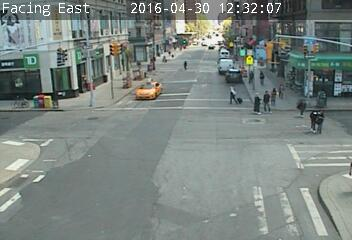neg: (138, 137, 172, 183), (281, 14, 311, 54), (247, 180, 273, 214), (27, 53, 52, 86), (69, 156, 94, 189), (255, 143, 279, 175), (197, 146, 218, 174), (19, 5, 39, 32), (317, 64, 337, 91), (60, 8, 78, 32), (72, 85, 90, 109), (208, 91, 225, 113), (215, 41, 227, 57), (74, 118, 78, 123)
pos: (293, 93, 316, 124), (247, 88, 267, 116), (313, 107, 333, 134), (272, 78, 292, 104), (225, 80, 244, 105), (266, 80, 284, 105)
